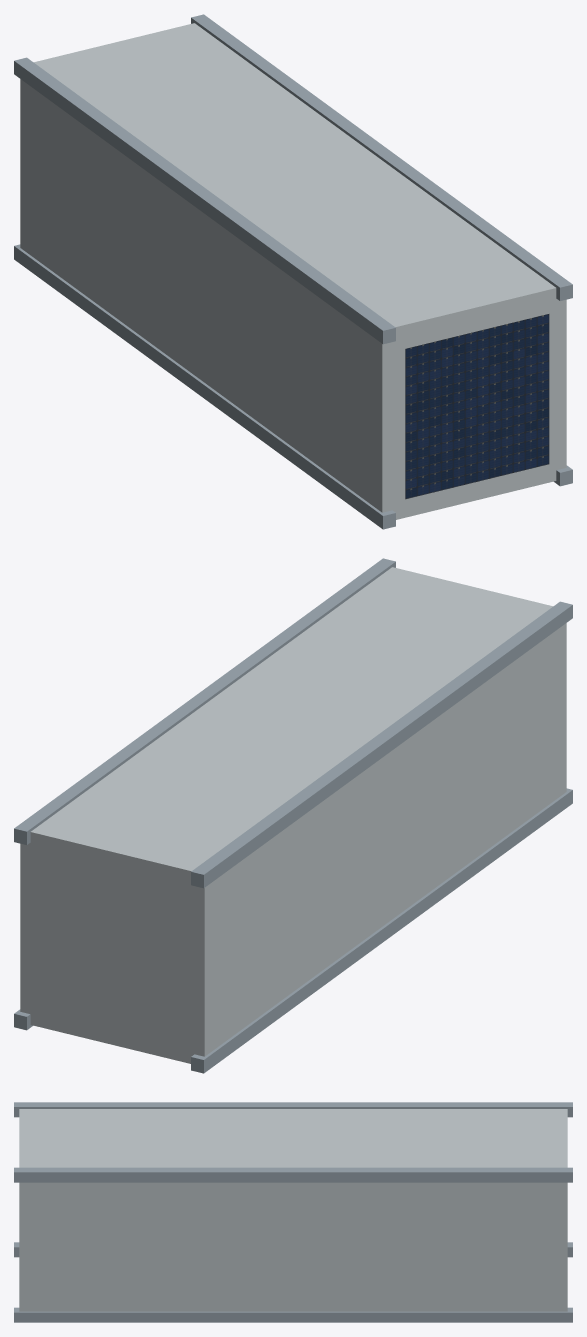
The model's file is ref-cubesat-3u-41788.glb.
3 renders of one model, top to bottom at view 1: azimuth 30°, elevation 25°; view 2: azimuth 150°, elevation 25°; view 3: azimuth 270°, elevation 25°, orthographic. The views are drawn at different scales.
Parts seen in each view (by area): view 1: Spacecraft body, Dispenser rail (×3), Body-mounted cells; view 2: Spacecraft body, Dispenser rail (×3); view 3: Spacecraft body, Dispenser rail (×3).
Part boxes in pixels (left/top/right/bottom): Spacecraft body: left=20, top=23, right=566, bottom=519; Dispenser rail (×3): left=14, top=14, right=572, bottom=529; Body-mounted cells: left=405, top=314, right=549, bottom=499; Spacecraft body: left=20, top=567, right=566, bottom=1063; Dispenser rail (×3): left=14, top=558, right=572, bottom=1073; Spacecraft body: left=19, top=1109, right=567, bottom=1311; Dispenser rail (×3): left=14, top=1102, right=572, bottom=1322.
Size of the model in its own units: 0.103 by 0.103 by 0.3468.
Materials: 3 (1 with a texture image).
